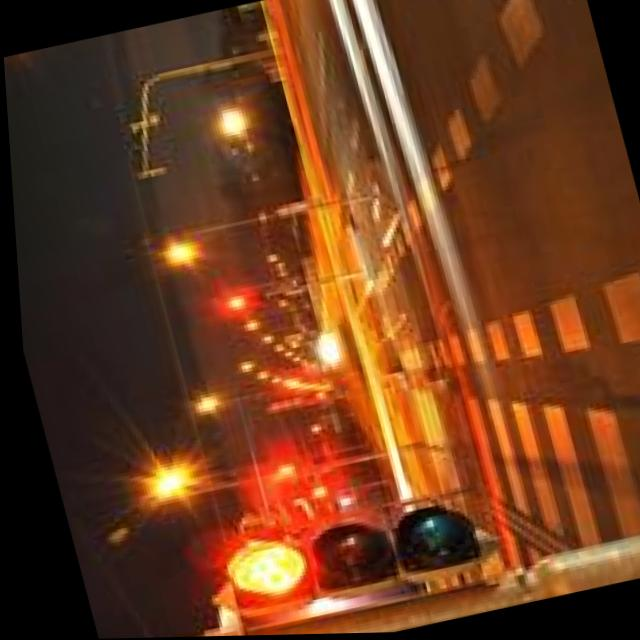red_light: (190, 507, 325, 637)
